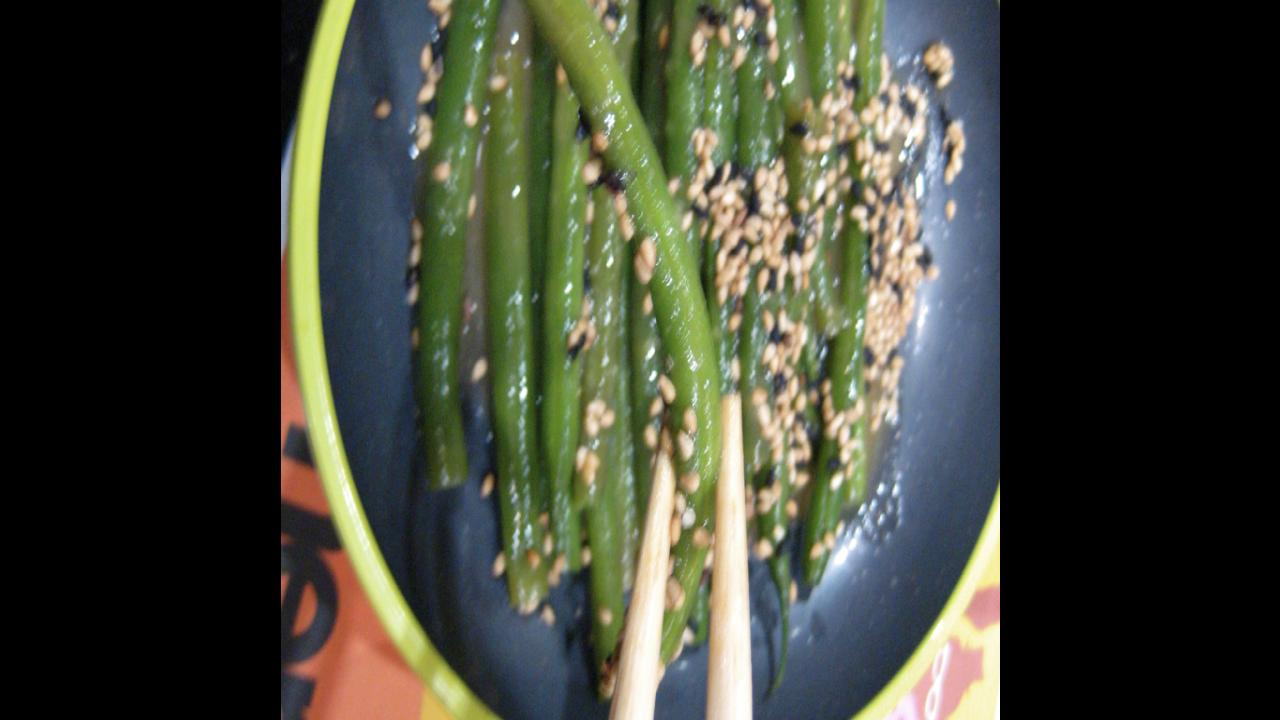chopstick: (562, 400, 683, 720), (702, 396, 749, 720)
